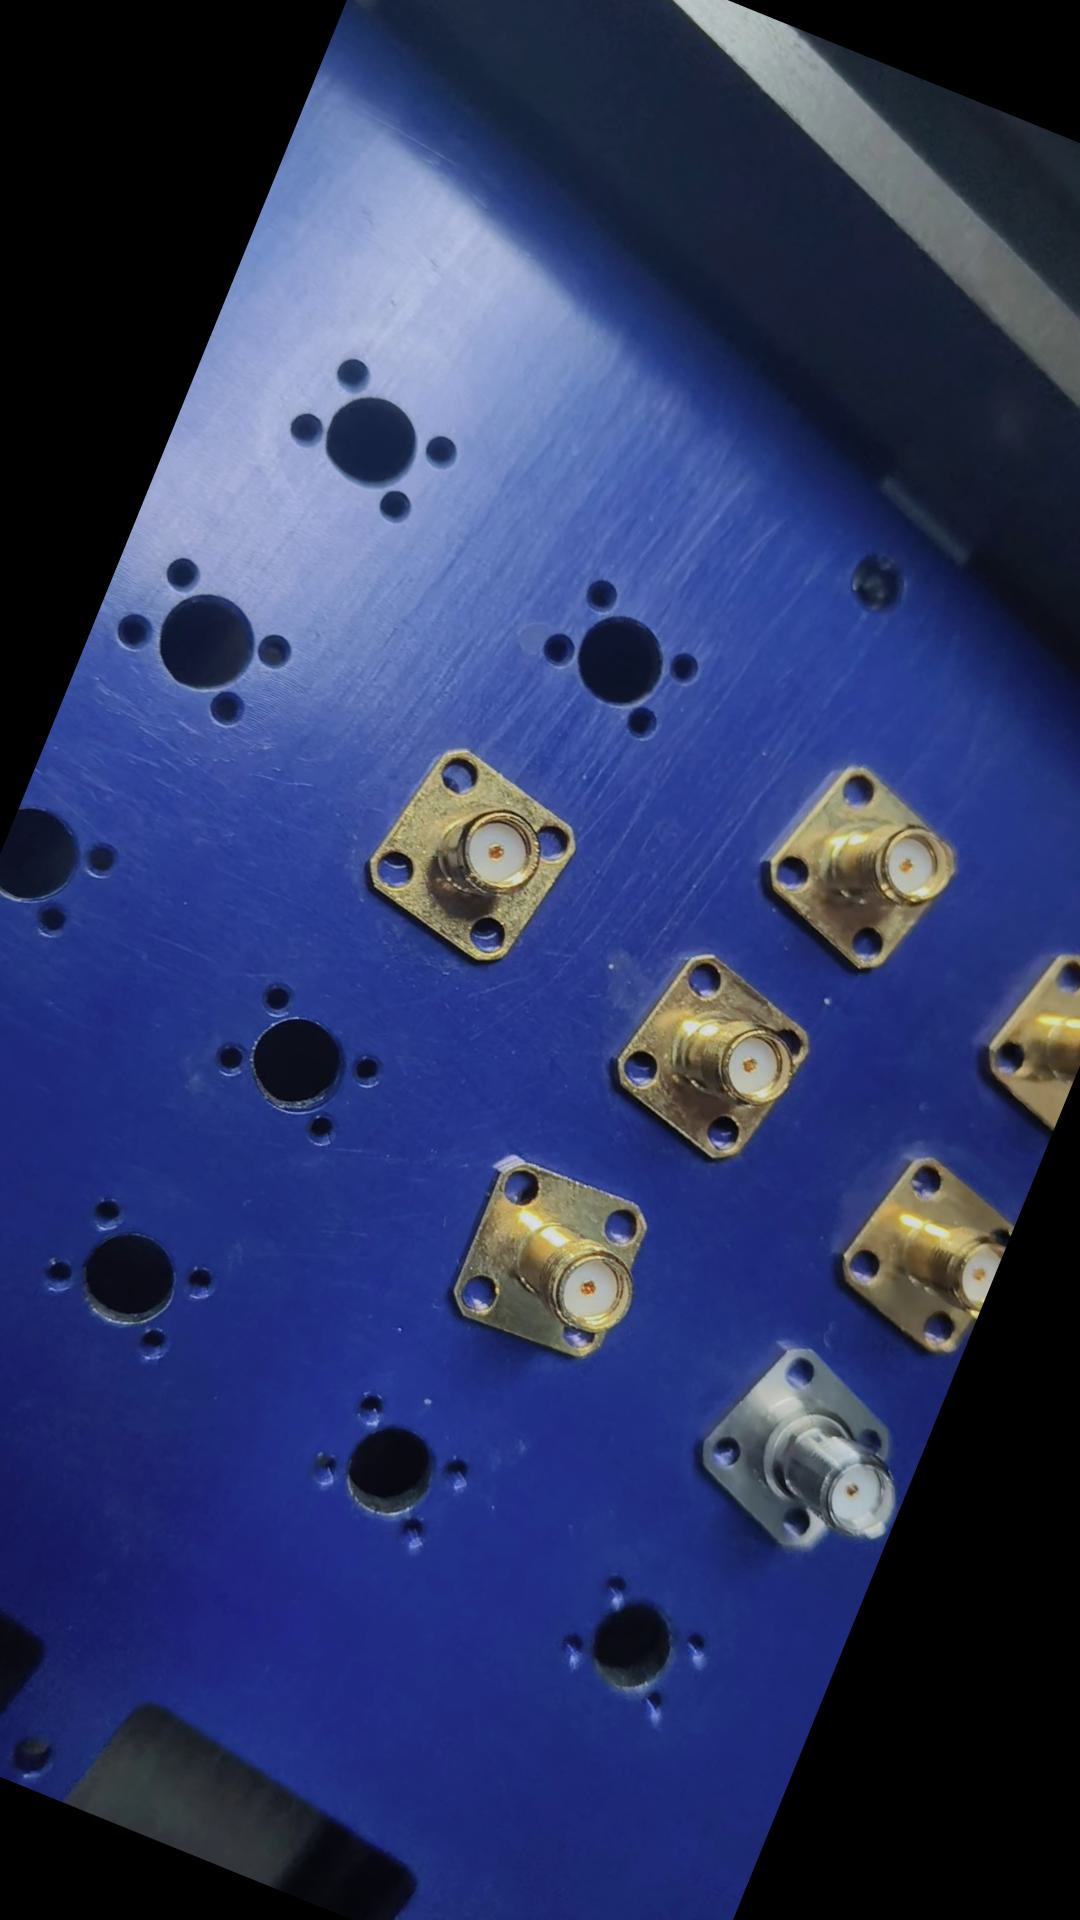SMA: (669, 1315, 938, 1584), (727, 737, 972, 1001), (345, 727, 592, 981), (589, 923, 829, 1179), (426, 1139, 662, 1375), (811, 1131, 1027, 1362)
